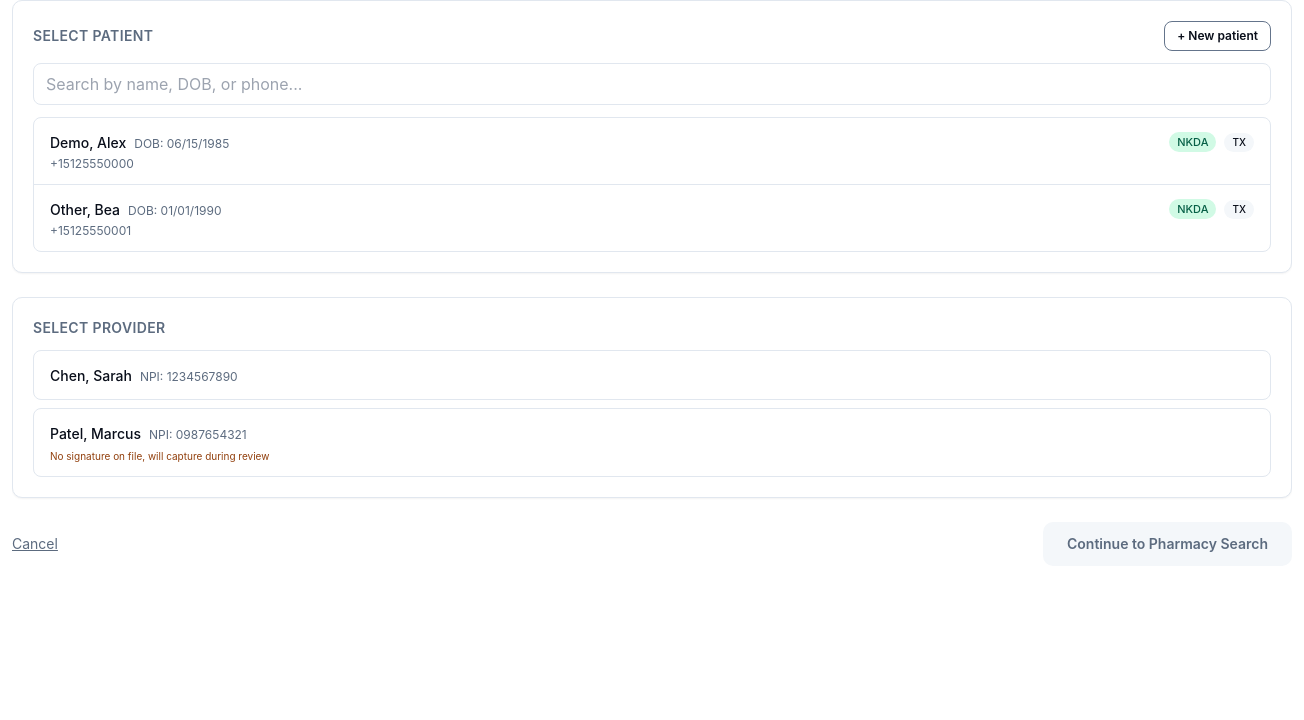
Test case: the selected-patient card: a visible separator between the chips and "TX, DOB: ..."
Step 1. Click the button "Demo, Alex" → x=88, y=142, box top-left (34, 118), bottom-right (1270, 185)
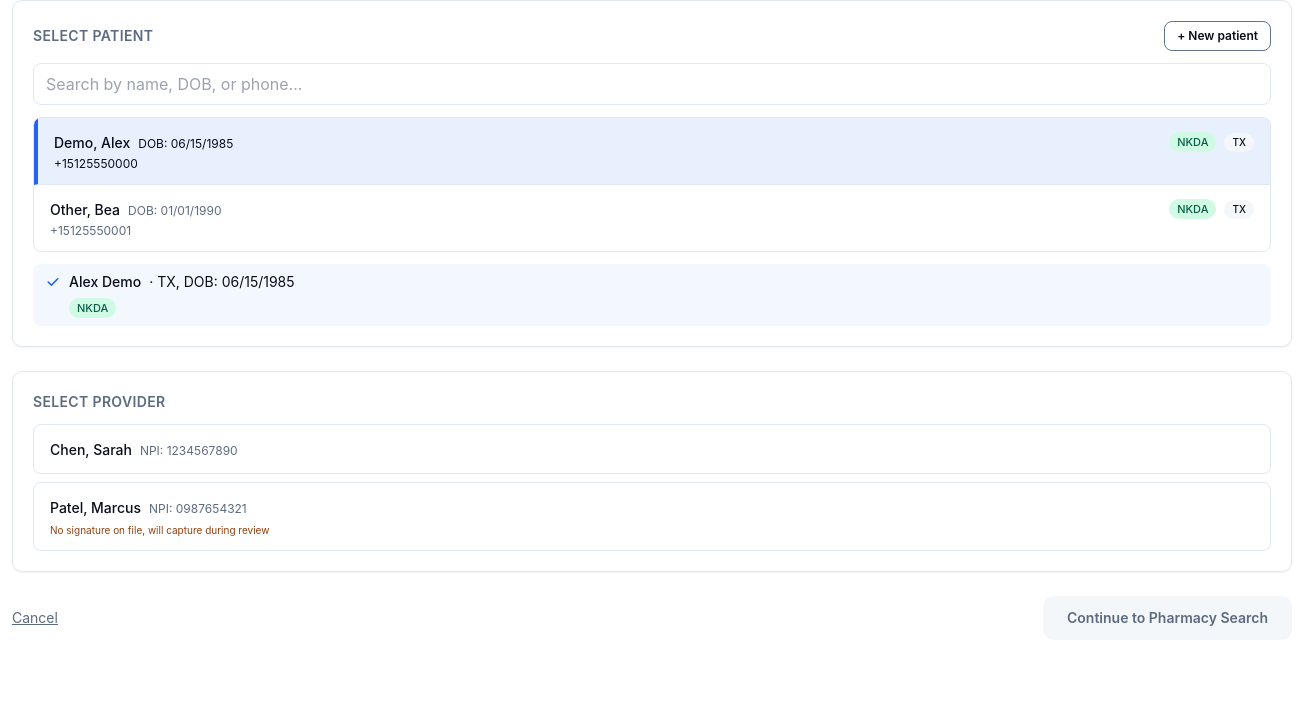
Expected: the text "· TX, DOB: 06/15/1985" is shown, top-left (149, 272), bottom-right (295, 292)
